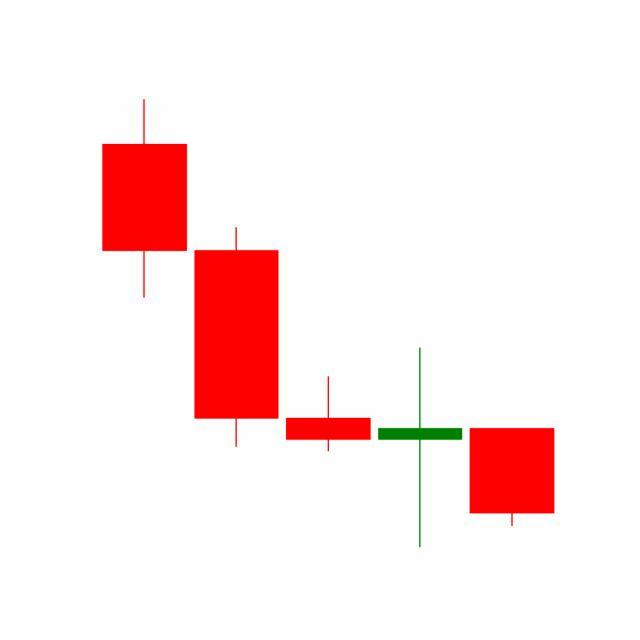Marubozu: (466, 427, 559, 528)
